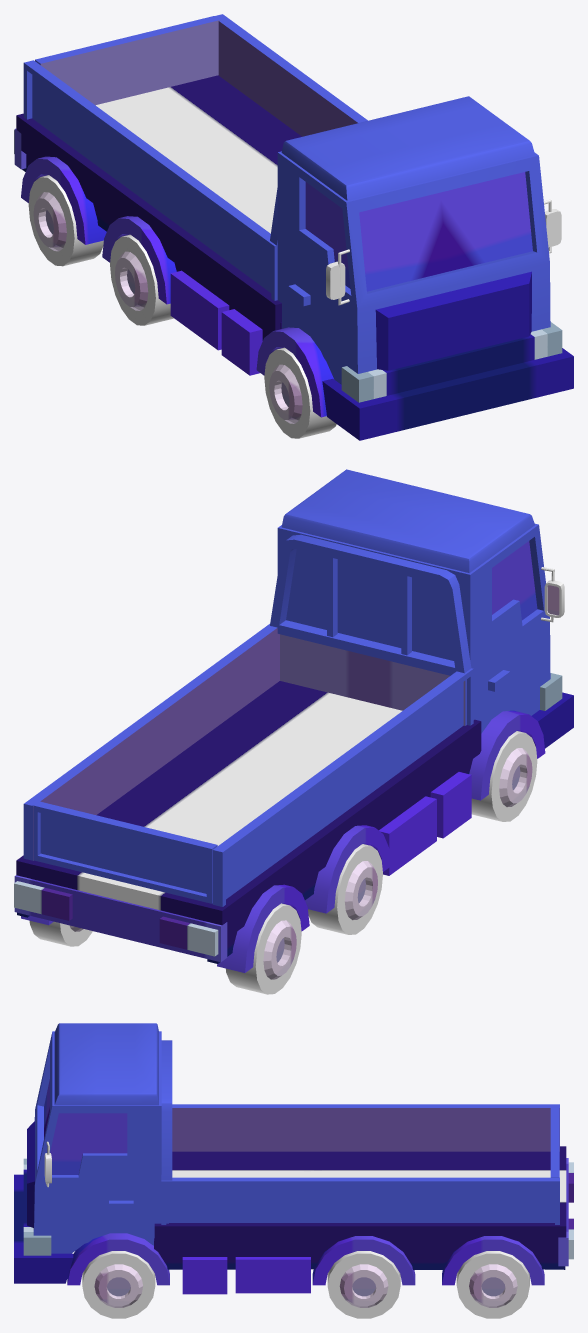
Rendered from Gold_Middle_Truck_Open.fbx.
3 renders of one model, top to bottom at view 1: azimuth 30°, elevation 25°; view 2: azimuth 150°, elevation 25°; view 3: azimuth 270°, elevation 25°, orthographic. The views are drawn at different scales.
Parts seen in each view (by area): view 1: Gold_Middle_Truck, Middle_Truck_Back_Door002; view 2: Gold_Middle_Truck, Middle_Truck_Back_Door002; view 3: Gold_Middle_Truck, Middle_Truck_Back_Door002.
Part boxes in pixels (<box>): Gold_Middle_Truck: <box>14,14,573,440</box>; Middle_Truck_Back_Door002: <box>35,16,220,105</box>; Gold_Middle_Truck: <box>14,469,573,994</box>; Middle_Truck_Back_Door002: <box>32,801,217,903</box>; Gold_Middle_Truck: <box>14,1023,573,1318</box>; Middle_Truck_Back_Door002: <box>550,1108,559,1177</box>.
Bounding box in the file's own units: 222 × 243 × 570.
